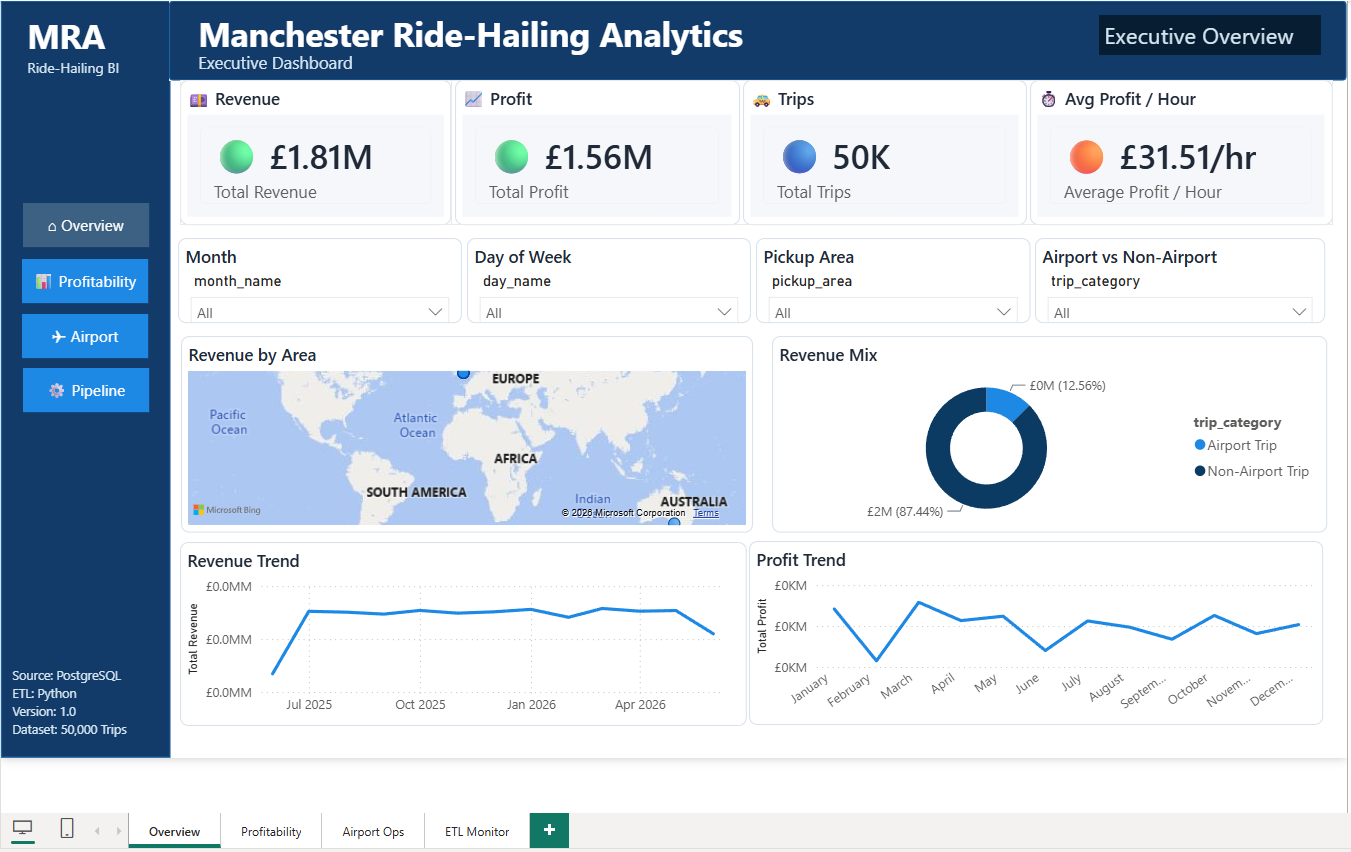

This screenshot's page, from the dashboard's own definition file:
{"tool":"powerbi","page":{"name":"Overview","canvas":[1280,720],"ordinal":0},"visuals":[{"type":"shape","title":"Sidebar","box":[0,0,161.3,719.5],"z":0,"group":"g1"},{"type":"group","id":"g1","title":"Branding","box":[0,0,1280,719.5],"z":0},{"type":"cardVisual","title":"💷 Revenue","fields":{"Data":["public vw_daily_performance.Revenue Status"]},"box":[170.3,75.6,258.3,137.6],"z":0,"group":"g4"},{"type":"slicer","title":"Day of Week","fields":{"Values":["public vw_daily_performance.day_name"]},"box":[443.2,225.6,269.5,81.2],"z":0,"group":"g3"},{"type":"map","title":"Revenue by Area","fields":{"Category":["public vw_area_profitability.pickup_area"],"Size":["public vw_area_profitability.Area Revenue"]},"box":[170.3,319.2,543.6,187.2],"z":0,"group":"g5"},{"type":"actionButton","title":"Button 4","box":[21.4,348.5,119.5,41.7],"z":0,"group":"g2"},{"type":"shape","title":"Header","box":[160.1,0,1119.9,75.6],"z":1000,"group":"g1"},{"type":"cardVisual","title":"📈 Profit","fields":{"Data":["public vw_daily_performance.Profit Status"]},"box":[431.9,75.6,270.7,137.6],"z":1000,"group":"g4"},{"type":"group","id":"g2","title":"Navigation","box":[20.3,191.7,120.7,198.5],"z":1000},{"type":"actionButton","title":"Button 1","box":[21.4,191.7,119.5,41.7],"z":1000,"group":"g2"},{"type":"slicer","title":"Month","fields":{"Values":["public vw_daily_performance.month_name"]},"box":[168,225.6,269.5,81.2],"z":1000,"group":"g3"},{"type":"donutChart","title":"Revenue Mix","fields":{"Category":["public vw_airport_performance.trip_category"],"Y":["public vw_airport_performance.Airport Revenue"]},"box":[732.8,319,527.8,187.2],"z":1000,"group":"g5"},{"type":"textbox","title":"Logo","box":[20.3,5.6,110.5,54.1],"z":2000,"group":"g1"},{"type":"cardVisual","title":"🚕 Trips","fields":{"Data":["public vw_daily_performance.Trips Status"]},"box":[706,75.6,269.5,137.6],"z":2000,"group":"g4"},{"type":"group","id":"g3","title":"Filter","box":[168,225.6,1091.7,81.2],"z":2000},{"type":"slicer","title":"Pickup Area","fields":{"Values":["public vw_area_profitability.pickup_area"]},"box":[717.2,225.6,260.5,81.2],"z":2000,"group":"g3"},{"type":"actionButton","title":"Button 2","box":[20.3,244.7,119.5,41.7],"z":2000,"group":"g2"},{"type":"lineChart","title":"Revenue Trend","fields":{"Category":["public vw_daily_performance.full_date.Variation.Date Hierarchy.Year","public vw_daily_performance.full_date.Variation.Date Hierarchy.Quarter","public vw_daily_performance.full_date.Variation.Date Hierarchy.Month"],"Y":["public vw_daily_performance.Total Revenue"]},"box":[169.8,514.6,539.2,174.7],"z":2000,"group":"g5"},{"type":"textbox","title":"Logo Subtitle","box":[20.3,49.6,110.5,50.7],"z":3000,"group":"g1"},{"type":"group","id":"g4","title":"KPI","box":[170.3,75.6,1096.2,137.6],"z":3000},{"type":"cardVisual","title":"⏱️ Avg Profit / Hour","fields":{"Data":["public vw_daily_performance.Avg Profit Hour Status"]},"box":[978.9,75.6,287.6,137.6],"z":3000,"group":"g4"},{"type":"slicer","title":"Airport vs Non-Airport","fields":{"Values":["public vw_airport_performance.trip_category"]},"box":[983.4,225.6,276.3,81.2],"z":3000,"group":"g3"},{"type":"actionButton","title":"Button 3","box":[20.3,297.7,119.5,41.7],"z":3000,"group":"g2"},{"type":"lineChart","title":"Profit Trend","fields":{"Category":["public vw_daily_performance.full_date.Variation.Date Hierarchy.Month"],"Y":["public vw_daily_performance.Total Profit"]},"box":[711.4,514.1,545.8,174.8],"z":3000,"group":"g5"},{"type":"textbox","title":"Header Title","box":[182.7,3.4,709.4,56.4],"z":4000,"group":"g1"},{"type":"group","id":"g5","title":"Charts","box":[169.8,319,1090.8,370.3],"z":4000},{"type":"textbox","title":"Header Subtitle","box":[182.7,42.9,283.1,32.7],"z":5000,"group":"g1"},{"type":"textbox","box":[1044.3,13.5,210.9,38.3],"z":6000,"group":"g1"},{"type":"textbox","box":[5.6,627,150,92.5],"z":7000,"group":"g1"}]}

Visuals, with their boxes on the page's 1280x720 design canvas (x1, y1, x2, y2). These are canvas units, not pixel positions in the 1351x852 screenshot, which may show the page scaled, cropped or inside an application window:
"Sidebar" shape: 0,0,161,720
"Branding" group: 0,0,1280,720
"💷 Revenue" cardVisual: 170,76,429,213
"Day of Week" slicer: 443,226,713,307
"Revenue by Area" map: 170,319,714,506
"Button 4" actionButton: 21,348,141,390
"Header" shape: 160,0,1280,76
"📈 Profit" cardVisual: 432,76,703,213
"Navigation" group: 20,192,141,390
"Button 1" actionButton: 21,192,141,233
"Month" slicer: 168,226,438,307
"Revenue Mix" donutChart: 733,319,1261,506
"Logo" textbox: 20,6,131,60
"🚕 Trips" cardVisual: 706,76,976,213
"Filter" group: 168,226,1260,307
"Pickup Area" slicer: 717,226,978,307
"Button 2" actionButton: 20,245,140,286
"Revenue Trend" lineChart: 170,515,709,689
"Logo Subtitle" textbox: 20,50,131,100
"KPI" group: 170,76,1266,213
"⏱️ Avg Profit / Hour" cardVisual: 979,76,1266,213
"Airport vs Non-Airport" slicer: 983,226,1260,307
"Button 3" actionButton: 20,298,140,339
"Profit Trend" lineChart: 711,514,1257,689
"Header Title" textbox: 183,3,892,60
"Charts" group: 170,319,1261,689
"Header Subtitle" textbox: 183,43,466,76
textbox: 1044,14,1255,52
textbox: 6,627,156,720
